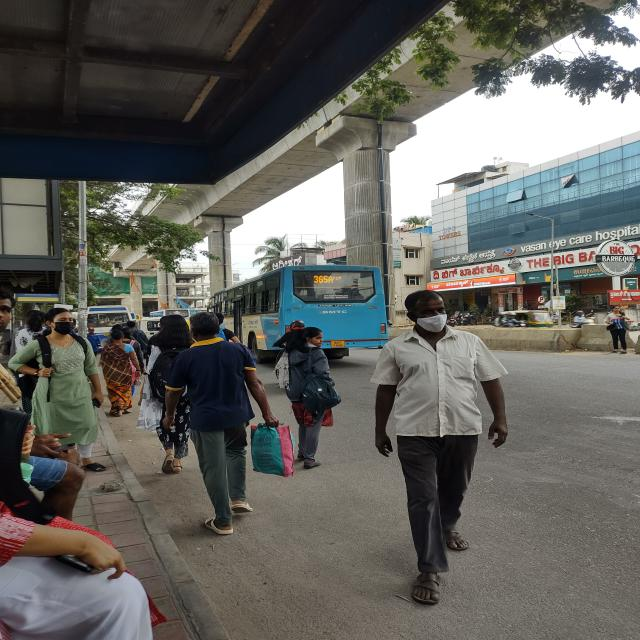bus: (202, 264, 393, 358)
display: (312, 272, 358, 284)
dnumber: (314, 274, 333, 284)
